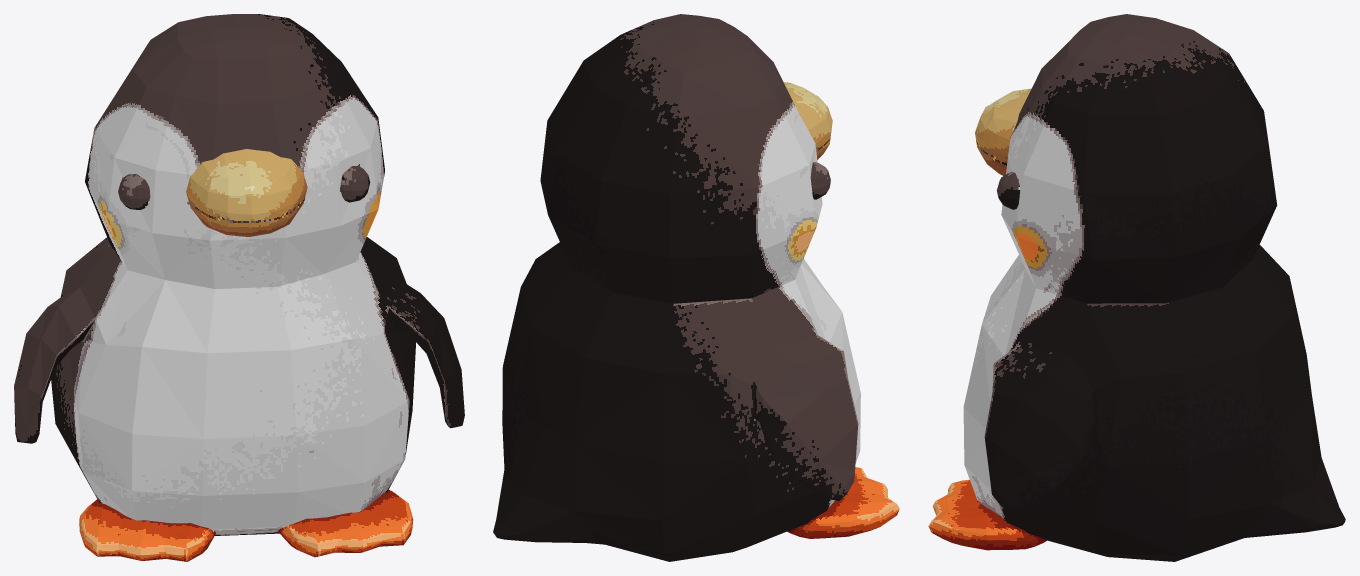
Rendered from penguin.glb.
3 renders of one model, left to right at view 1: azimuth 30°, elevation 25°; view 2: azimuth 150°, elevation 25°; view 3: azimuth 270°, elevation 25°, orthographic.
Parts seen in each view (by area): view 1: model_m; view 2: model_m; view 3: model_m.
Part boxes in pixels (box(x1,y1,x2,y2)): model_m: box(14, 14, 464, 561); model_m: box(493, 14, 899, 561); model_m: box(928, 14, 1345, 561).
Size of the model in its own units: 27.74 by 34 by 26.94.
Materials: 1 (1 with a texture image).
